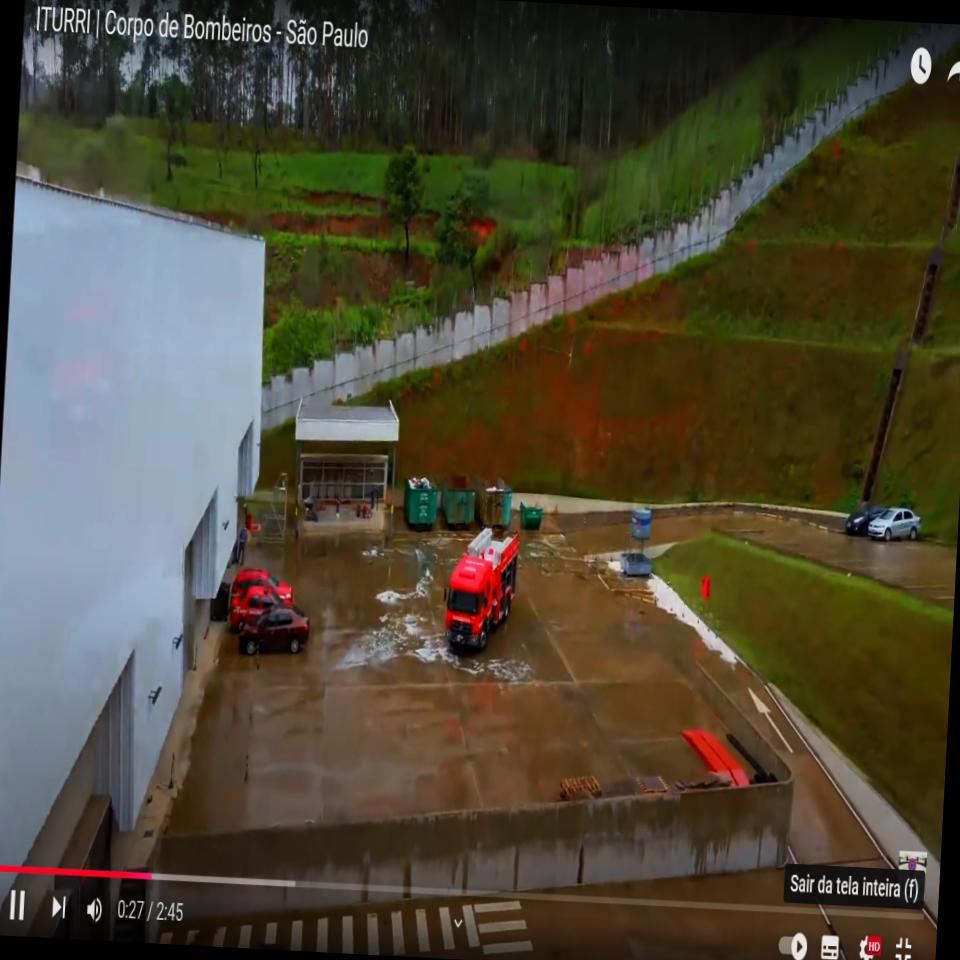viatura: (440, 524, 520, 655)
